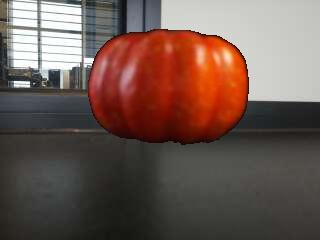Pumpkin: (89, 29, 249, 144)
